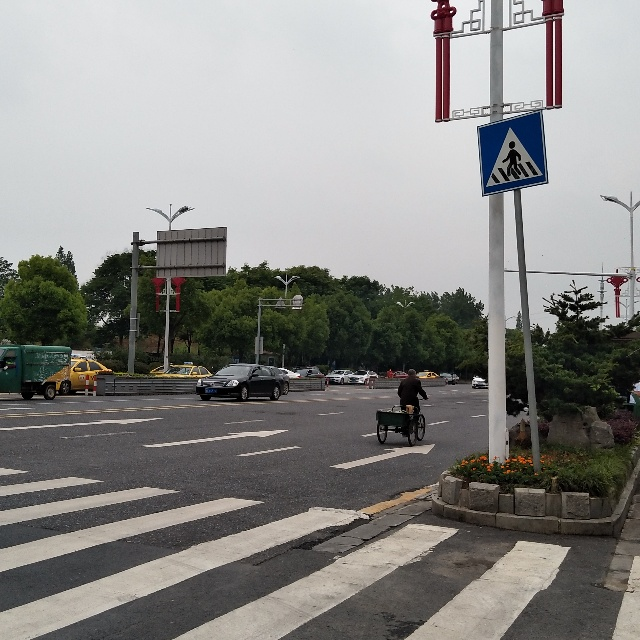crosswalk: (481, 122, 545, 187)
